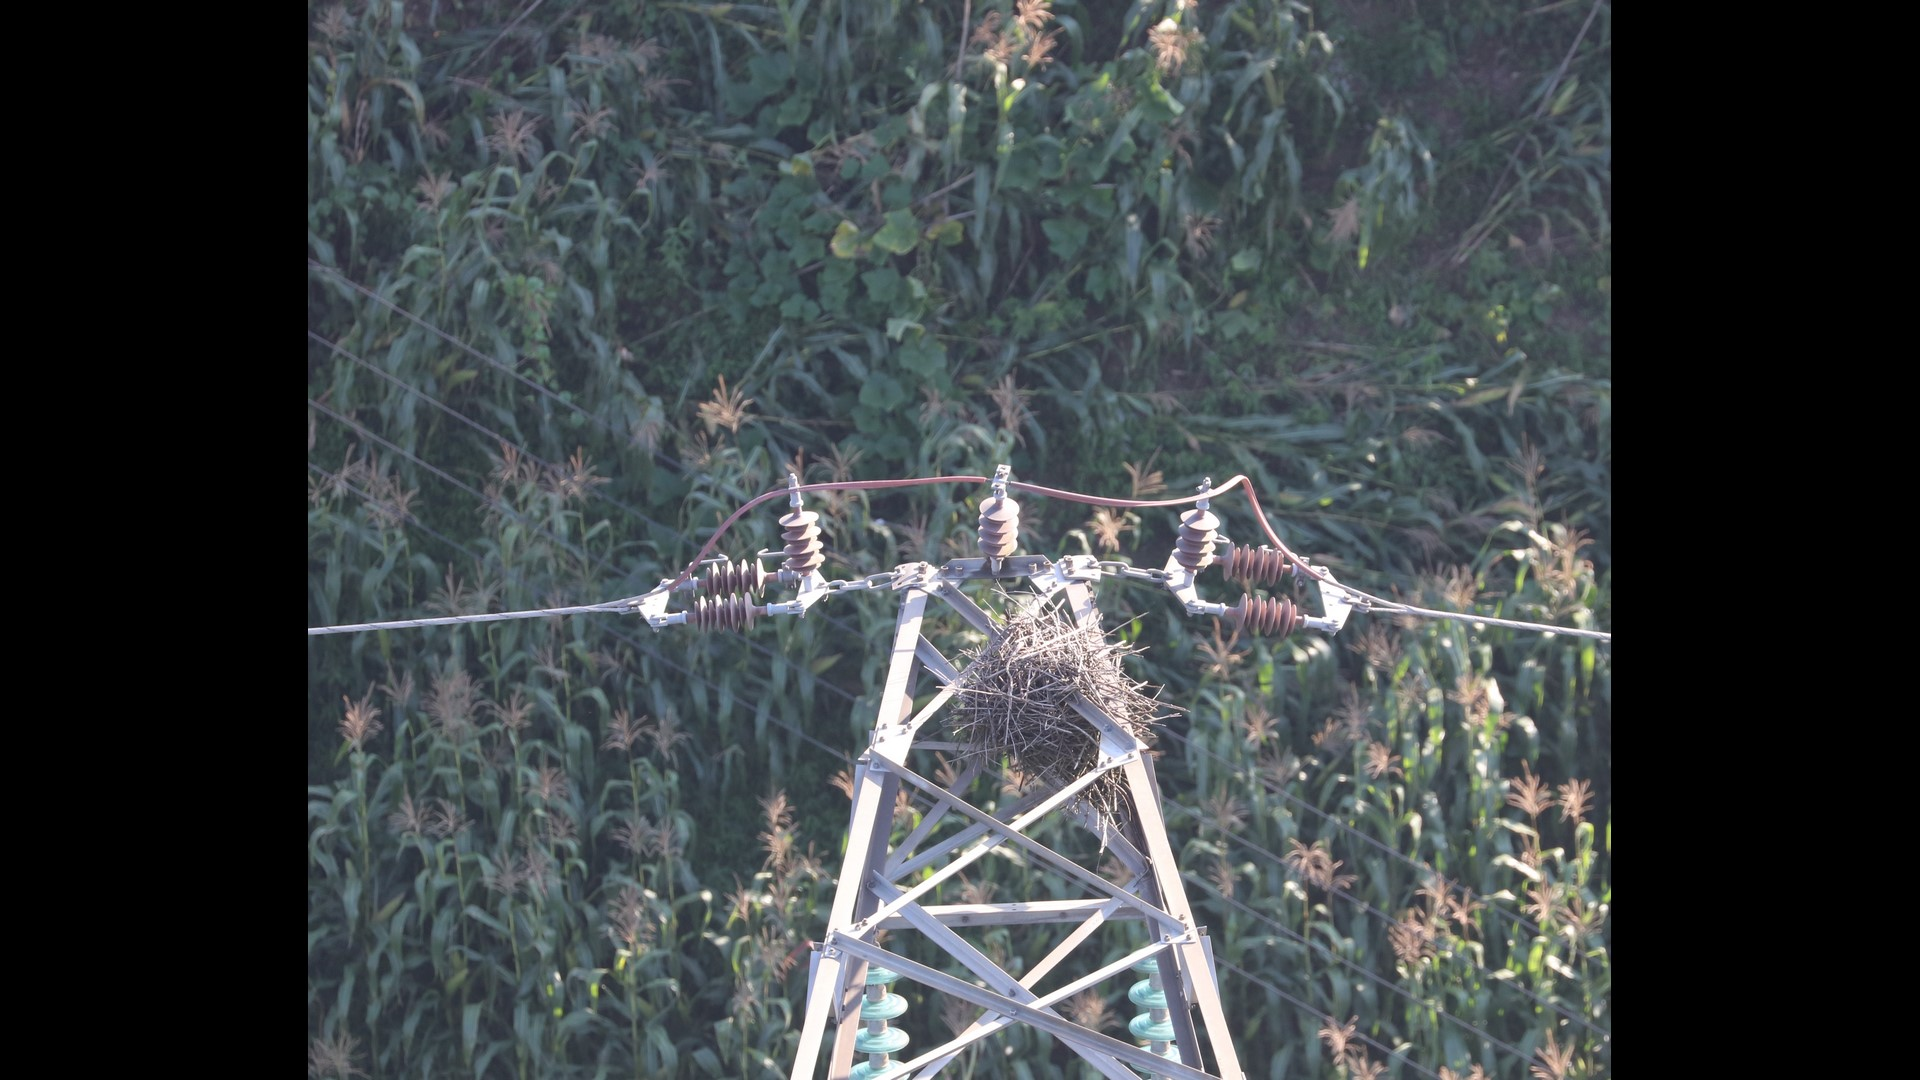niaowo: (924, 584, 1171, 803)
